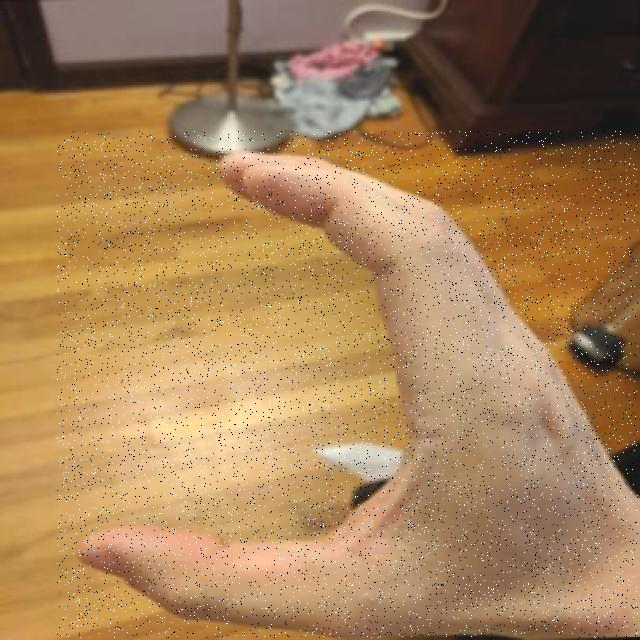C: (57, 131, 638, 638)
